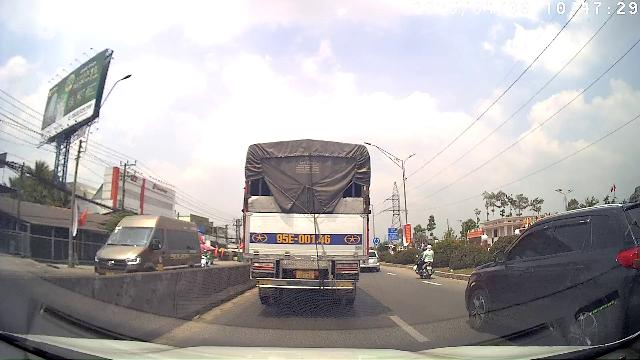303-noi-giao-nhau-chay-theo-vong-xuyen: (373, 237, 380, 245)
